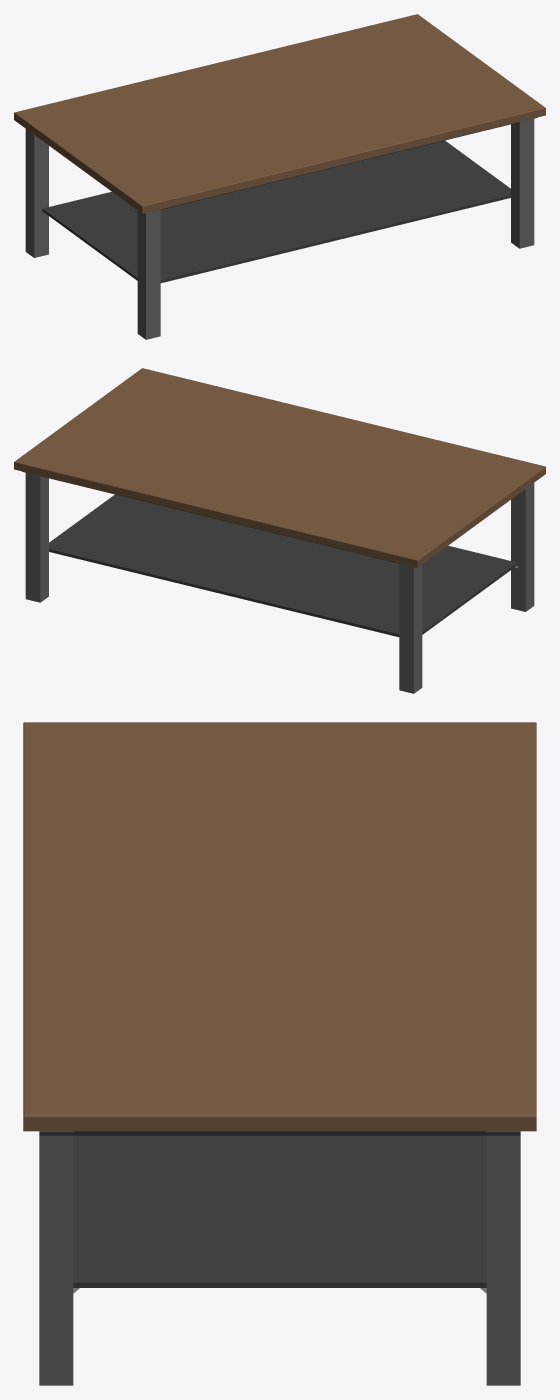
Rendered from PackingTable.fbx.
3 views of the same model, one above another, from view 1: azimuth 30°, elevation 25°; view 2: azimuth 150°, elevation 25°; view 3: azimuth 270°, elevation 25° (orthographic). The views are drawn at different scales.
Parts seen in each view (by area): view 1: Cube; view 2: Cube; view 3: Cube.
Boxes of the visible parts, <box> form: Cube: <box>14,14,545,339</box>; Cube: <box>14,368,545,693</box>; Cube: <box>23,722,536,1385</box>.
Bounding box in the file's own units: 981 × 322 × 540.
